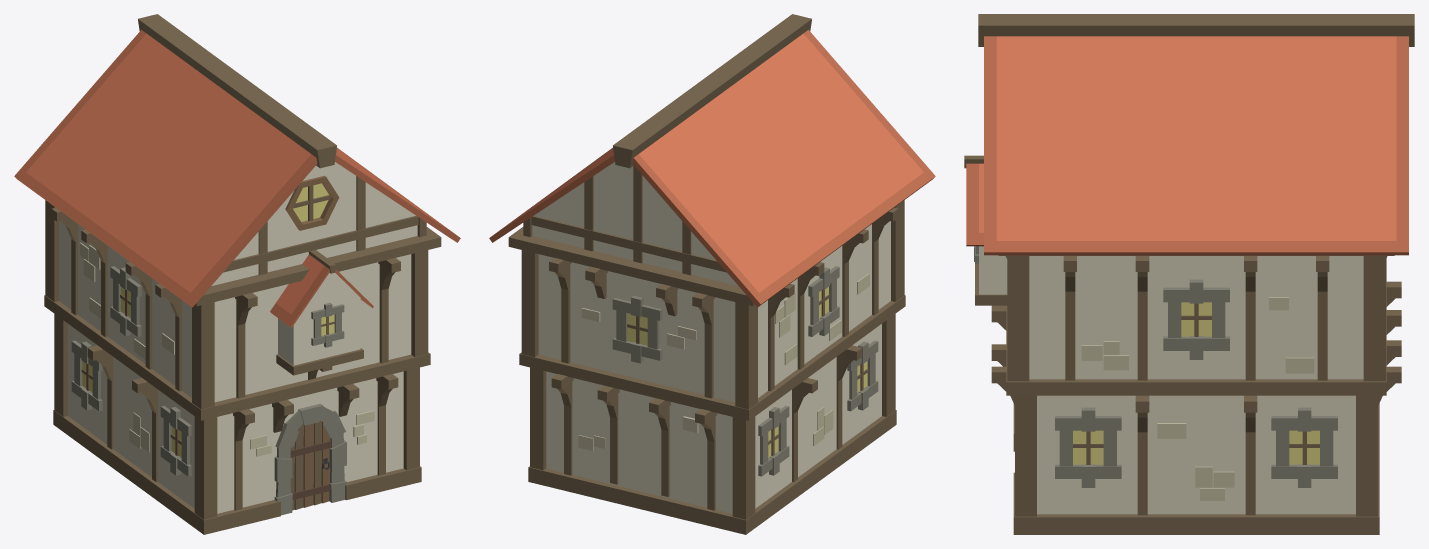
The model's file is House_6.fbx.
3 renders of one model, left to right at view 1: azimuth 30°, elevation 25°; view 2: azimuth 150°, elevation 25°; view 3: azimuth 270°, elevation 25°, orthographic. The views are drawn at different scales.
Visible parts, largest first — view 1: House_6; view 2: House_6; view 3: House_6.
Boxes of the visible parts, x1,y1,x2,y2 form: House_6: (14, 14, 460, 534); House_6: (489, 14, 935, 534); House_6: (964, 14, 1414, 534).
Bounding box in the file's own units: 122 × 159 × 144.
1 material, 1 textured.
